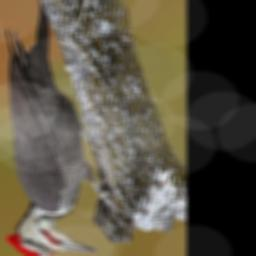Woodpecker: (3, 0, 116, 256)
